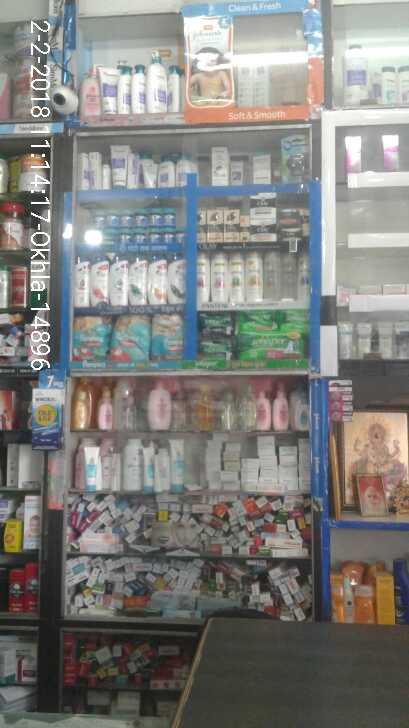vicks: (90, 204, 195, 254)
